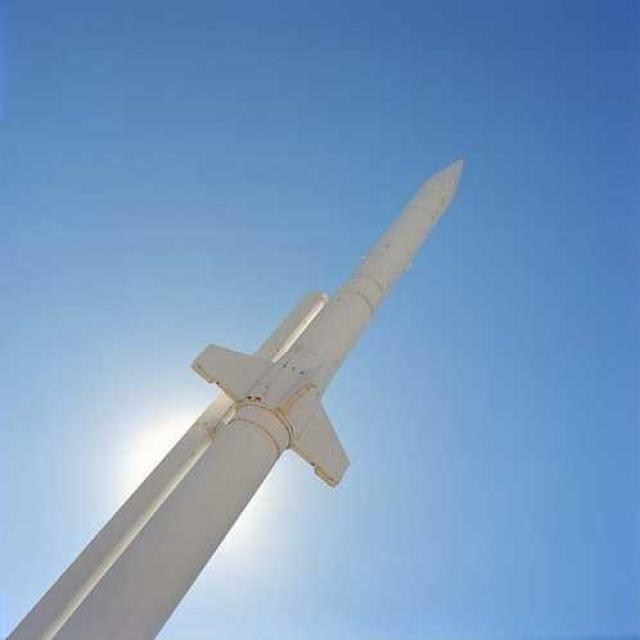missile: (0, 154, 465, 640)
